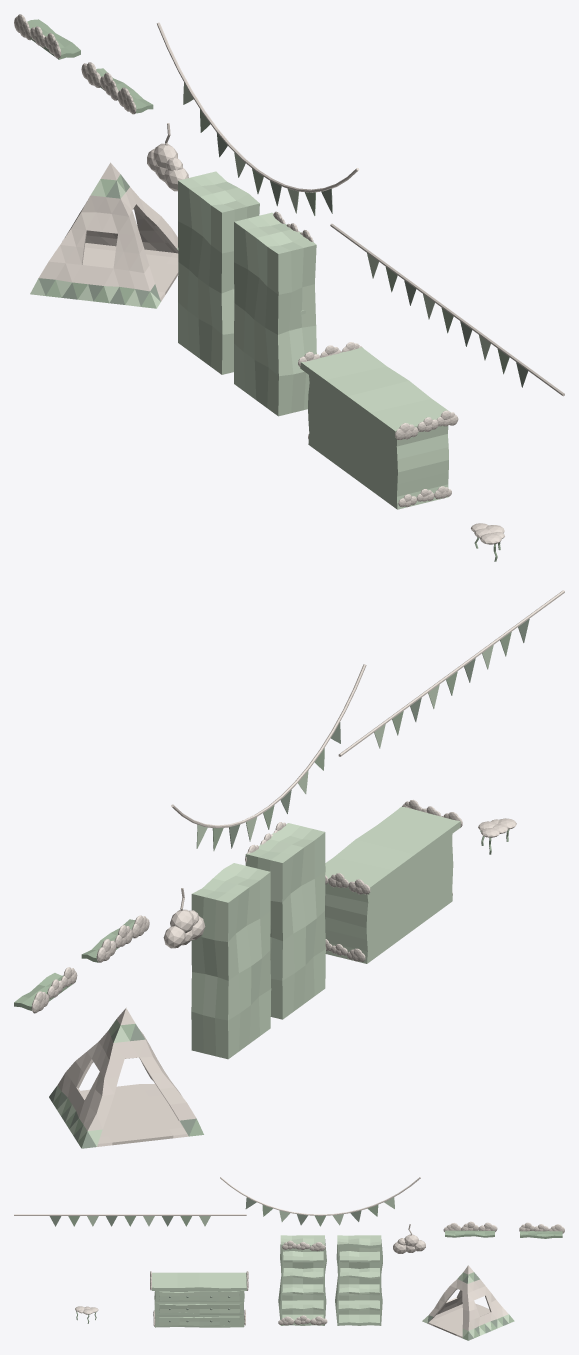
The model's file is nursery_extra_assets.fbx.
The picture shows the model from 3 angles, top to bottom: view 1: azimuth 30°, elevation 25°; view 2: azimuth 150°, elevation 25°; view 3: azimuth 270°, elevation 25°; orthographic projection. The views are drawn at different scales.
Parts seen in each view (by area): view 1: Dresser_WithDecor, Shelf_WithDecor, Tent, Shelf_NoDecor, Garland_Curved, Garland_Straight, WallShelf, WallShelf.001, Lamp; view 2: Dresser_WithDecor, Shelf_NoDecor, Tent, Shelf_WithDecor, Garland_Curved, Garland_Straight, WallShelf, WallShelf.001, Lamp; view 3: Dresser_WithDecor, Shelf_WithDecor, Shelf_NoDecor, Tent, Garland_Straight, Garland_Curved, WallShelf, WallShelf.001, Lamp.
Boxes of the visible parts, bbox=[...] form: Dresser_WithDecor: bbox=[298, 342, 458, 509]; Shelf_WithDecor: bbox=[234, 211, 316, 416]; Tent: bbox=[30, 162, 178, 308]; Shelf_NoDecor: bbox=[178, 171, 259, 374]; Garland_Curved: bbox=[157, 22, 359, 215]; Garland_Straight: bbox=[330, 223, 564, 396]; WallShelf: bbox=[81, 62, 153, 114]; WallShelf.001: bbox=[14, 14, 80, 59]; Lamp: bbox=[147, 123, 188, 191]; Dresser_WithDecor: bbox=[325, 799, 462, 963]; Shelf_NoDecor: bbox=[191, 863, 271, 1059]; Tent: bbox=[49, 1008, 203, 1148]; Shelf_WithDecor: bbox=[245, 822, 325, 1019]; Garland_Curved: bbox=[171, 664, 366, 850]; Garland_Straight: bbox=[338, 590, 564, 756]; WallShelf: bbox=[81, 915, 149, 962]; WallShelf.001: bbox=[14, 967, 77, 1013]; Lamp: bbox=[163, 888, 205, 948]; Dresser_WithDecor: bbox=[150, 1271, 248, 1327]; Shelf_WithDecor: bbox=[278, 1235, 327, 1325]; Shelf_NoDecor: bbox=[335, 1235, 382, 1325]; Tent: bbox=[422, 1265, 514, 1340]; Garland_Straight: bbox=[14, 1214, 246, 1226]; Garland_Curved: bbox=[220, 1177, 420, 1226]; WallShelf: bbox=[443, 1221, 497, 1237]; WallShelf.001: bbox=[519, 1222, 564, 1238]; Lamp: bbox=[393, 1224, 425, 1253].
Bounding box in the file's own units: 2.24 × 3.83 × 13.27.
